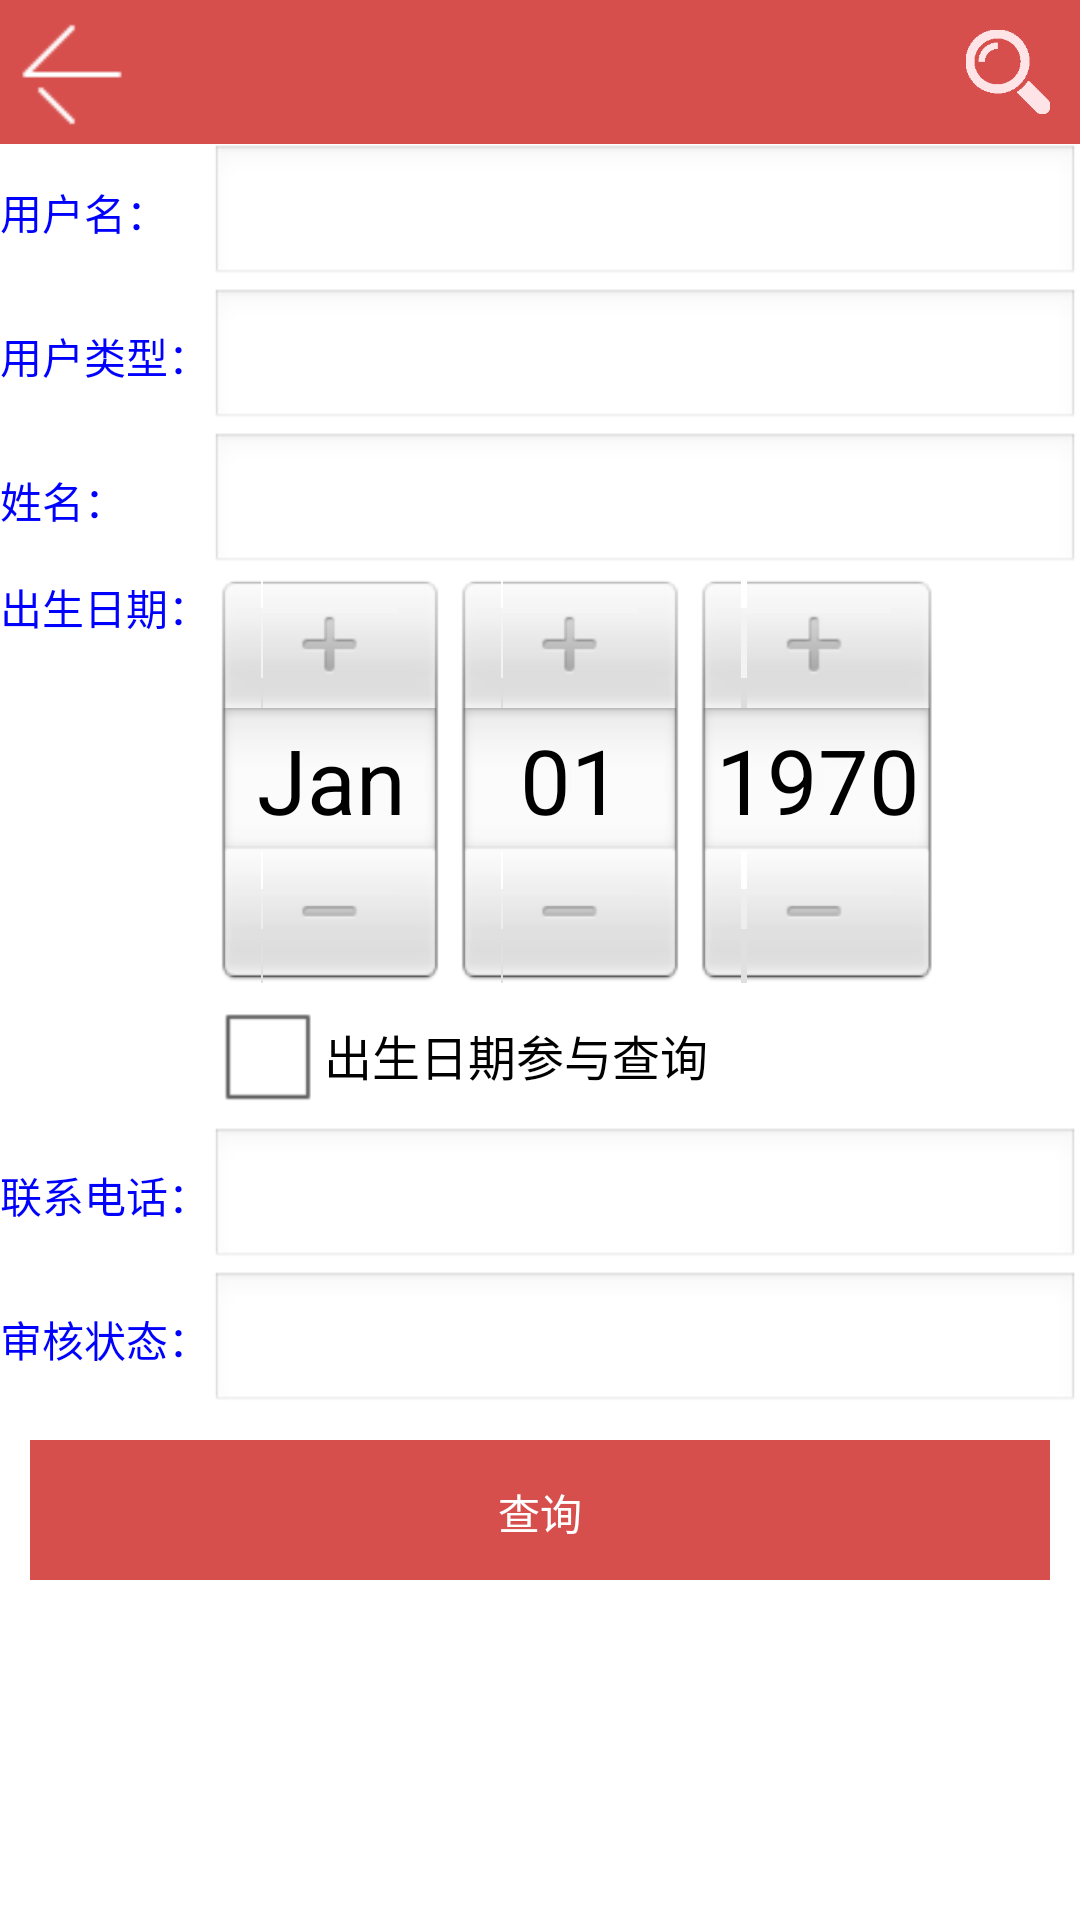

Point at icon controls on the screen. Image size 1080w x 1920h, points as [x,y].
left: [72,75]
search: [1008,72]
